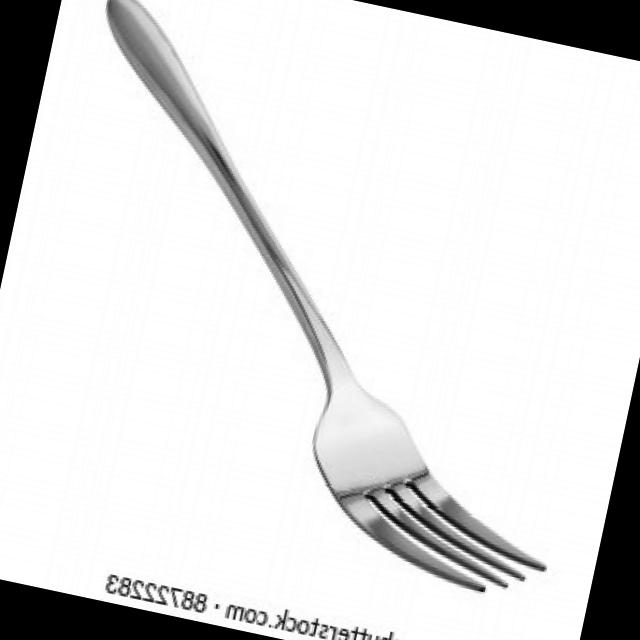fork: (2, 0, 640, 606)
